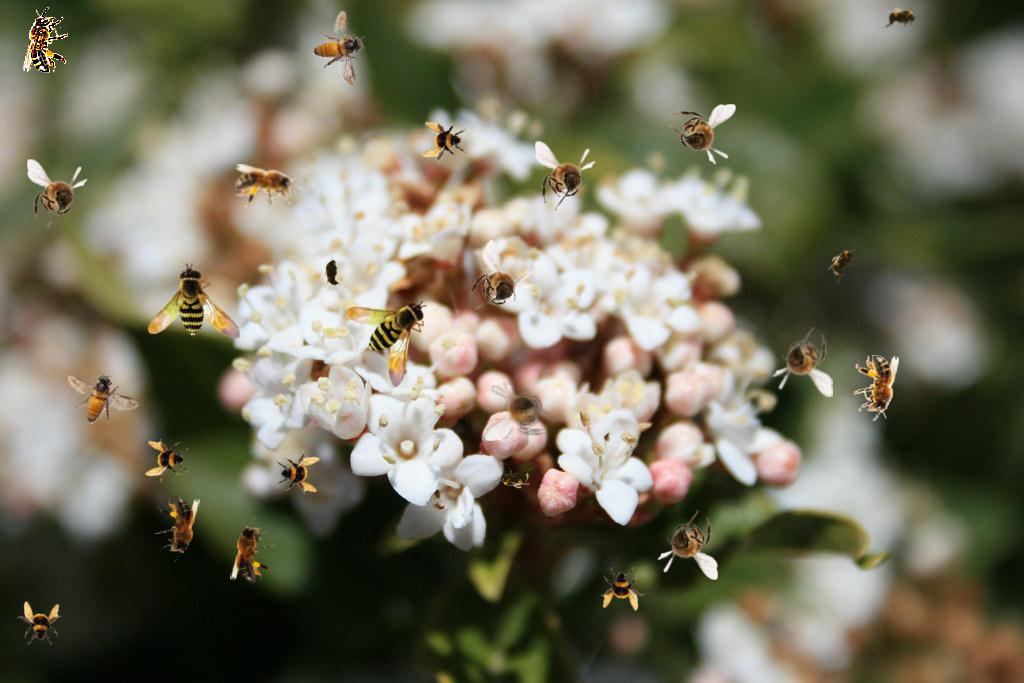Bee: (139, 259, 259, 379), (457, 238, 544, 330), (55, 353, 141, 440), (345, 300, 427, 388), (306, 5, 374, 88), (657, 510, 718, 580), (485, 380, 555, 441), (27, 159, 88, 229), (666, 104, 736, 165), (772, 327, 833, 397), (535, 141, 596, 211), (155, 496, 200, 562), (23, 7, 68, 73), (230, 517, 275, 583), (235, 164, 301, 209), (854, 355, 899, 421), (822, 239, 866, 285), (422, 120, 466, 164), (601, 567, 645, 611), (145, 439, 189, 483), (17, 601, 61, 645), (276, 450, 320, 494), (882, 7, 922, 29), (494, 467, 534, 489), (322, 252, 344, 292)
